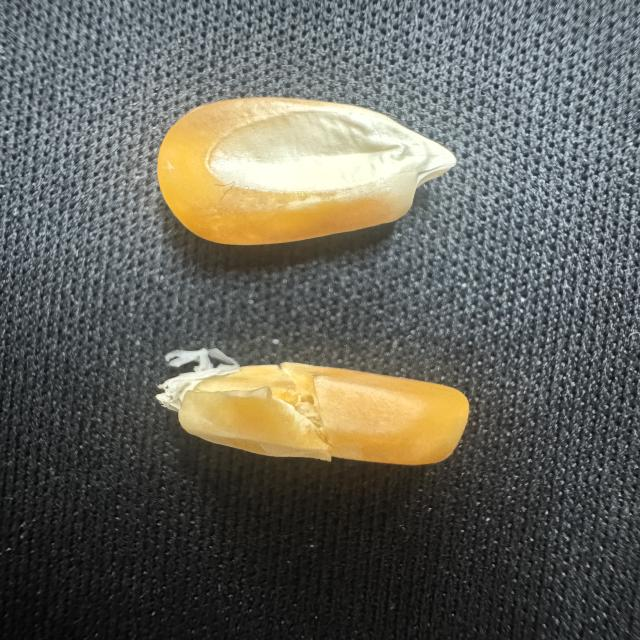Bad-Seed: (136, 338, 475, 472)
Good-Seed: (146, 91, 462, 253)
